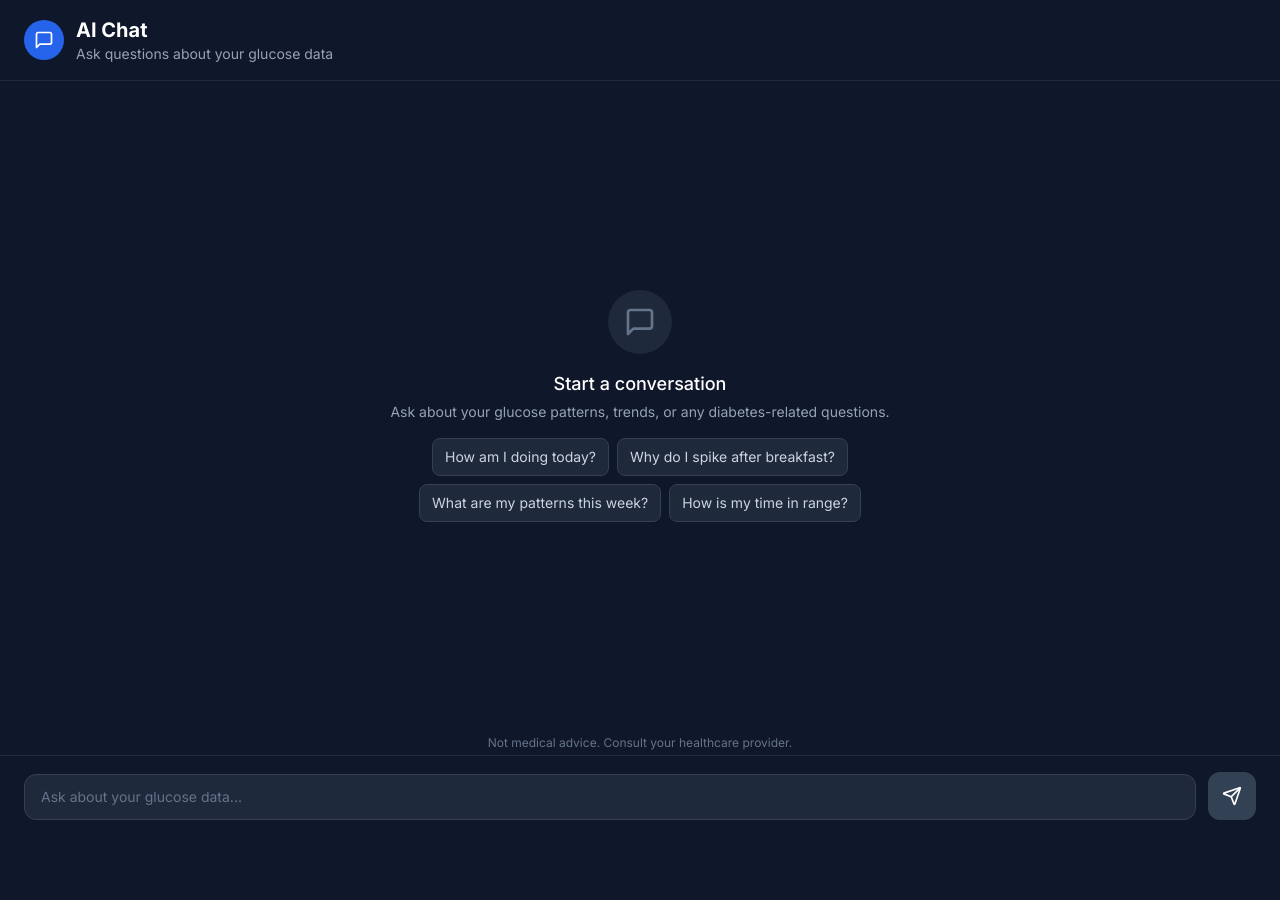
Test: AI Chat Page › sending messages › shows error on send failure
Type "Failing message" into the text box with placeholder "Ask about your glucose data...".
click(610, 797); type("Failing message")  # box [24,774,1196,820]
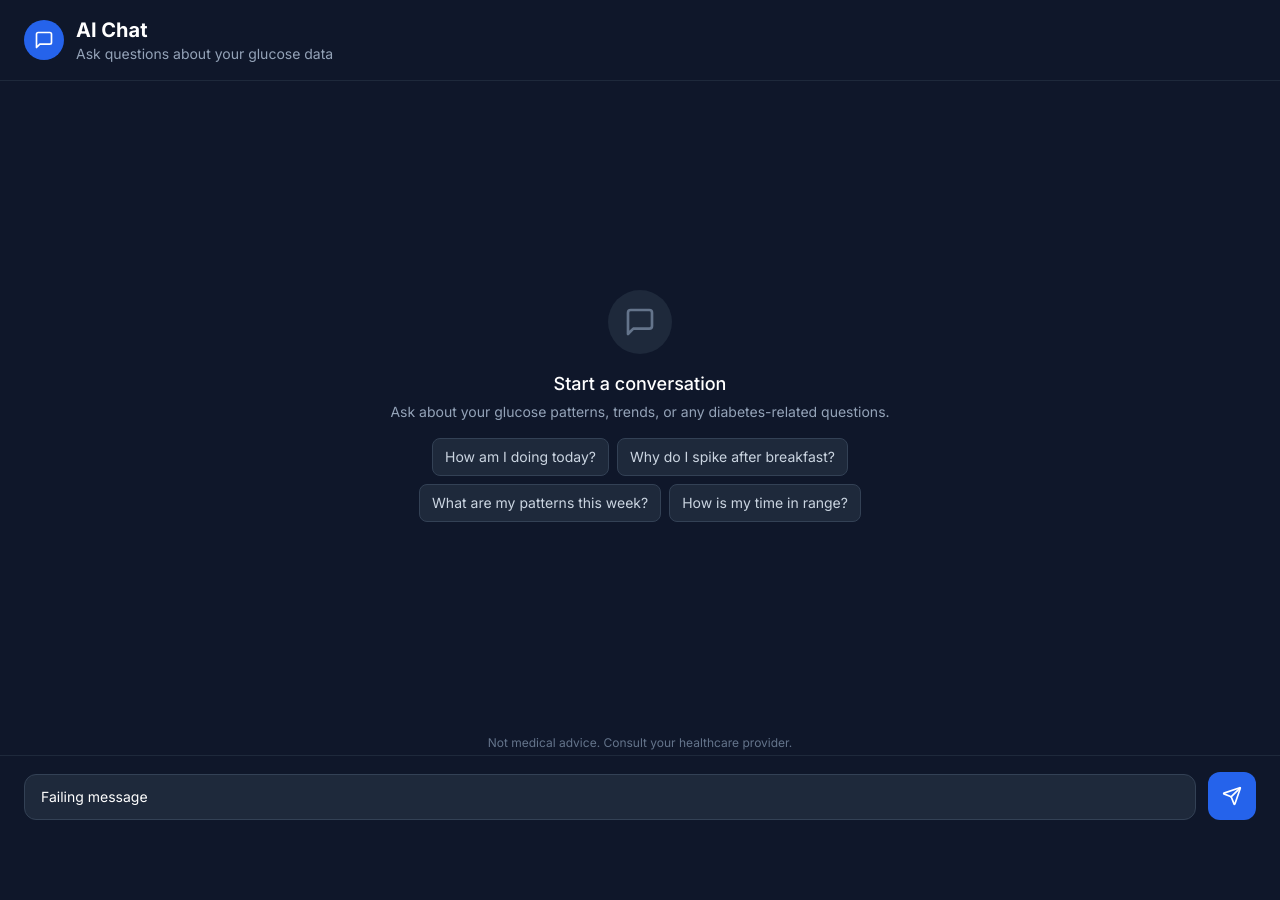
Click the button named "send message".
click(1232, 796)  # box [1208,772,1256,820]
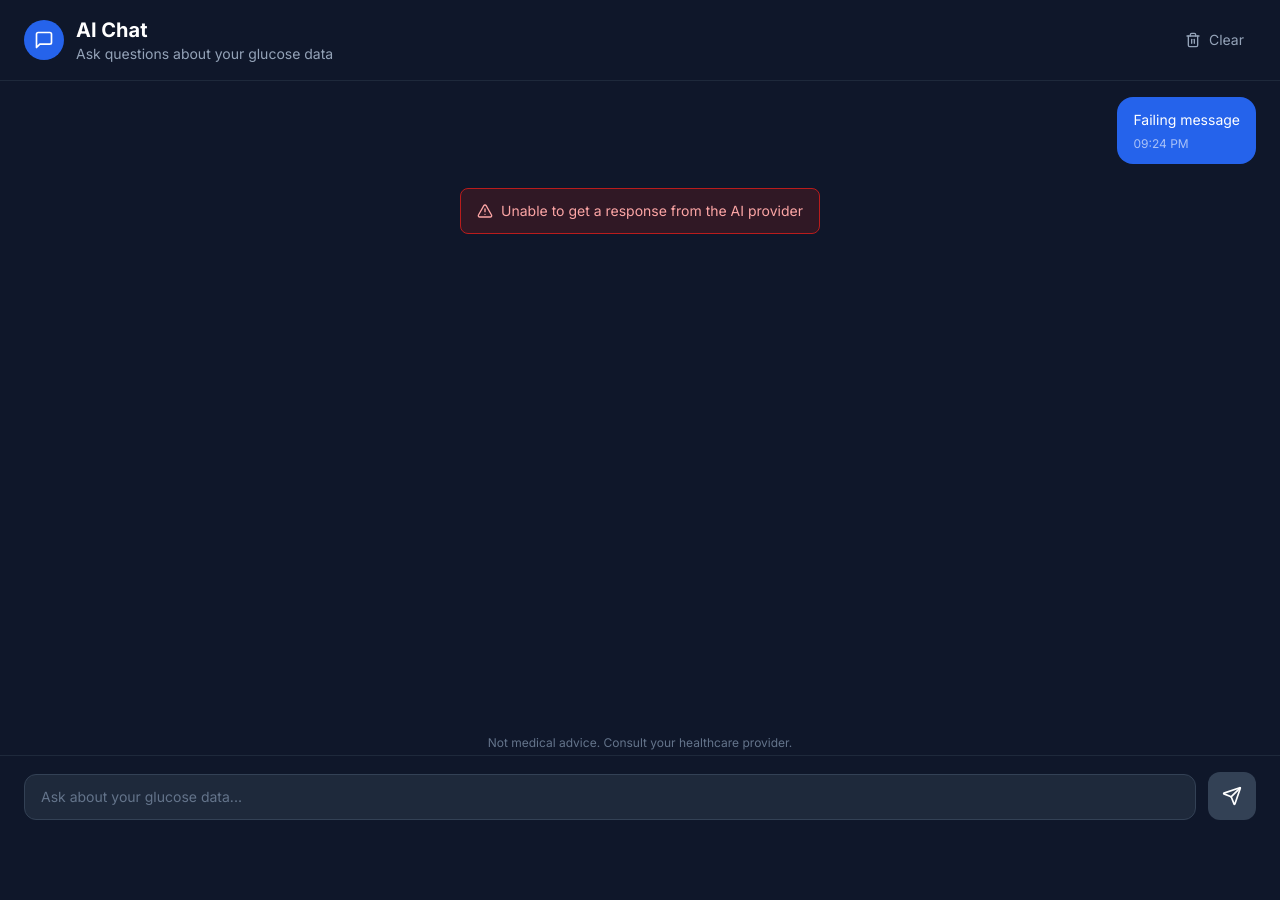
Now the text "Unable to get a response from the AI provider" is shown, box [477,201,803,221]
